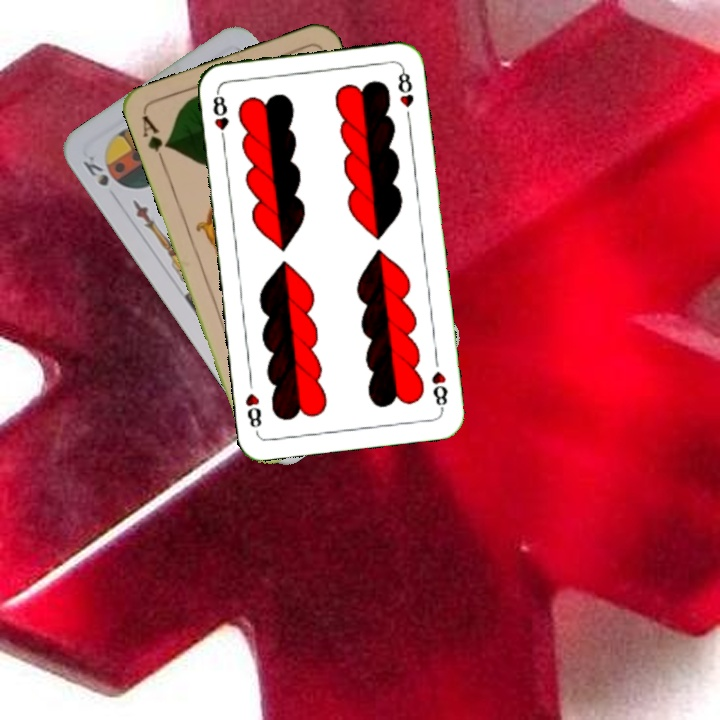GA: (138, 111, 172, 168)
H8: (208, 87, 231, 146), (427, 367, 451, 413)
SK: (78, 151, 112, 189)
